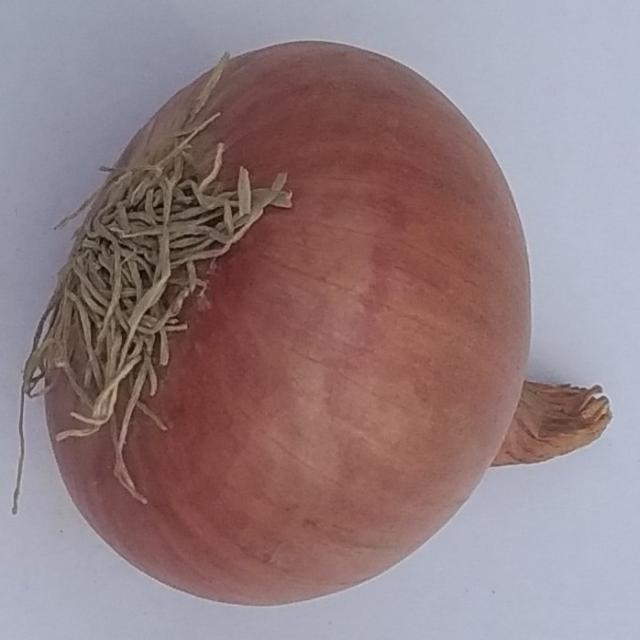onion: (12, 41, 618, 608)
